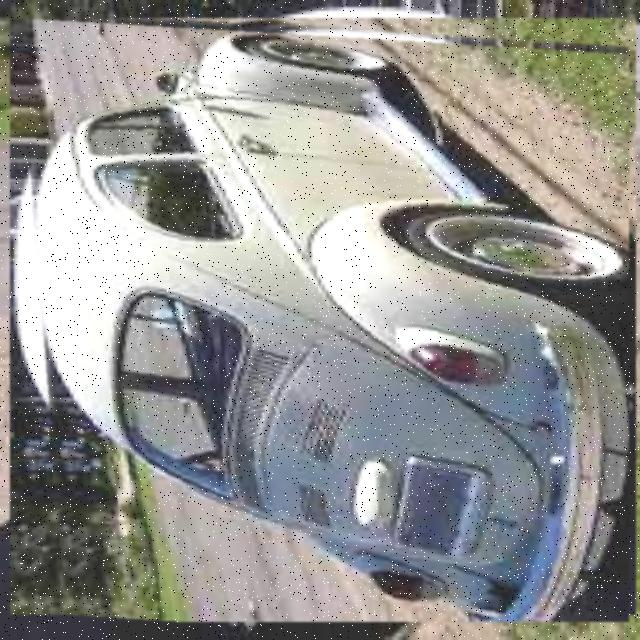car: (18, 11, 630, 623)
